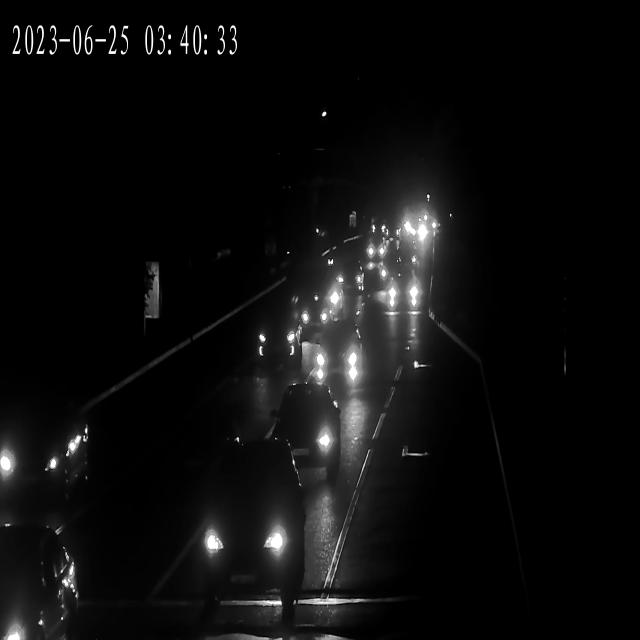Car: (198, 450, 306, 615), (0, 405, 100, 507), (0, 524, 76, 640), (278, 377, 342, 476), (314, 324, 364, 396), (256, 307, 303, 367), (297, 277, 329, 335), (384, 269, 423, 311), (334, 252, 368, 290), (316, 278, 346, 318), (363, 232, 387, 266), (408, 218, 433, 244)
